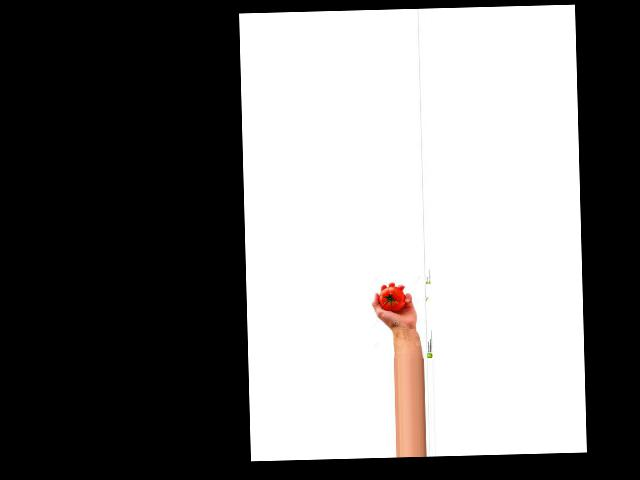tomato: (379, 285, 406, 311)
